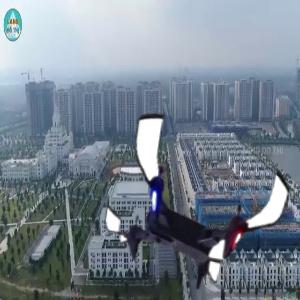drone: (105, 112, 294, 300)
